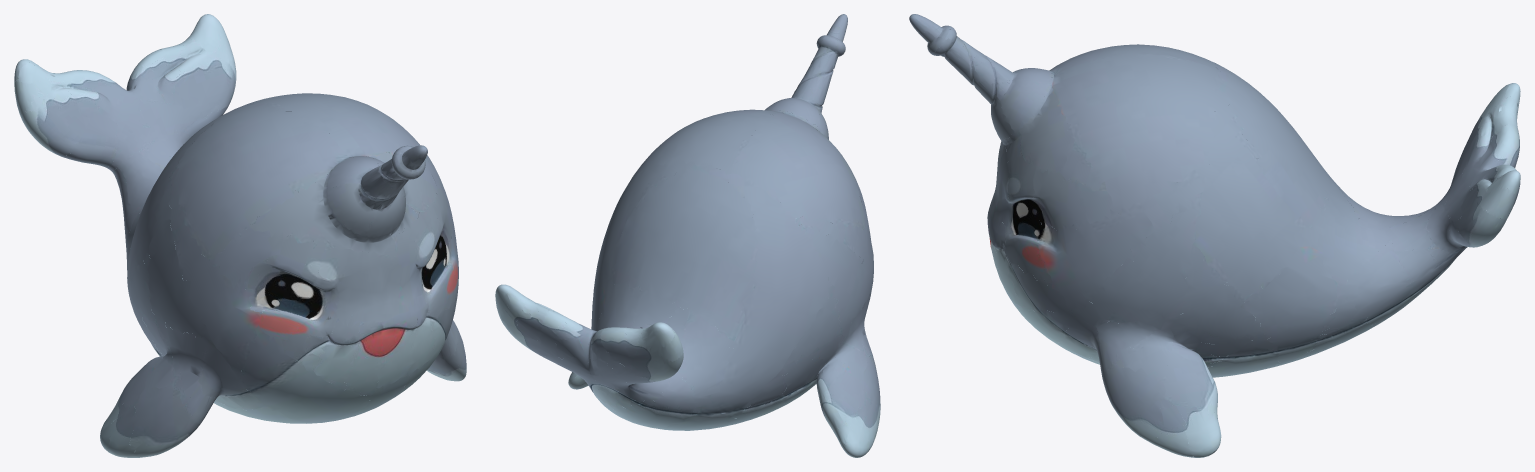
3 views of the same model, side by side, from view 1: azimuth 30°, elevation 25°; view 2: azimuth 150°, elevation 25°; view 3: azimuth 270°, elevation 25° (orthographic). The views are drawn at different scales.
Parts seen in each view (by area): view 1: Mesh_0; view 2: Mesh_0; view 3: Mesh_0.
Boxes of the visible parts, x1,y1,x2,y2 form: Mesh_0: [14, 14, 466, 457]; Mesh_0: [495, 14, 880, 457]; Mesh_0: [909, 14, 1520, 457].
Bounding box in the file's own units: 1.21 × 1.25 × 1.9.
Materials: 1 (1 with a texture image).
